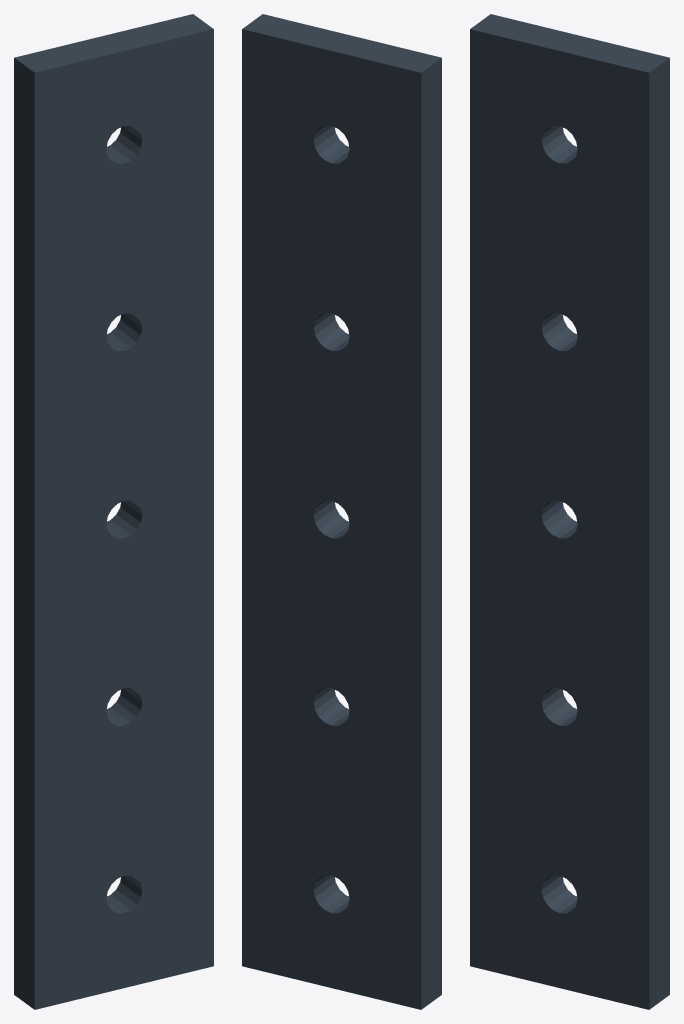
The model's file is kit_beam_100.obj.
The picture shows the model from 3 angles, left to right: view 1: azimuth 30°, elevation 25°; view 2: azimuth 150°, elevation 25°; view 3: azimuth 330°, elevation 25°; orthographic projection.
Parts seen in each view (by area): view 1: kit_beam_100; view 2: kit_beam_100; view 3: kit_beam_100.
Part boxes in pixels (<box>): kit_beam_100: <box>14,14,213,1009</box>; kit_beam_100: <box>242,14,441,1009</box>; kit_beam_100: <box>470,14,669,1009</box>.
Bounding box in the file's own units: 0.02 × 0.1 × 0.004.
